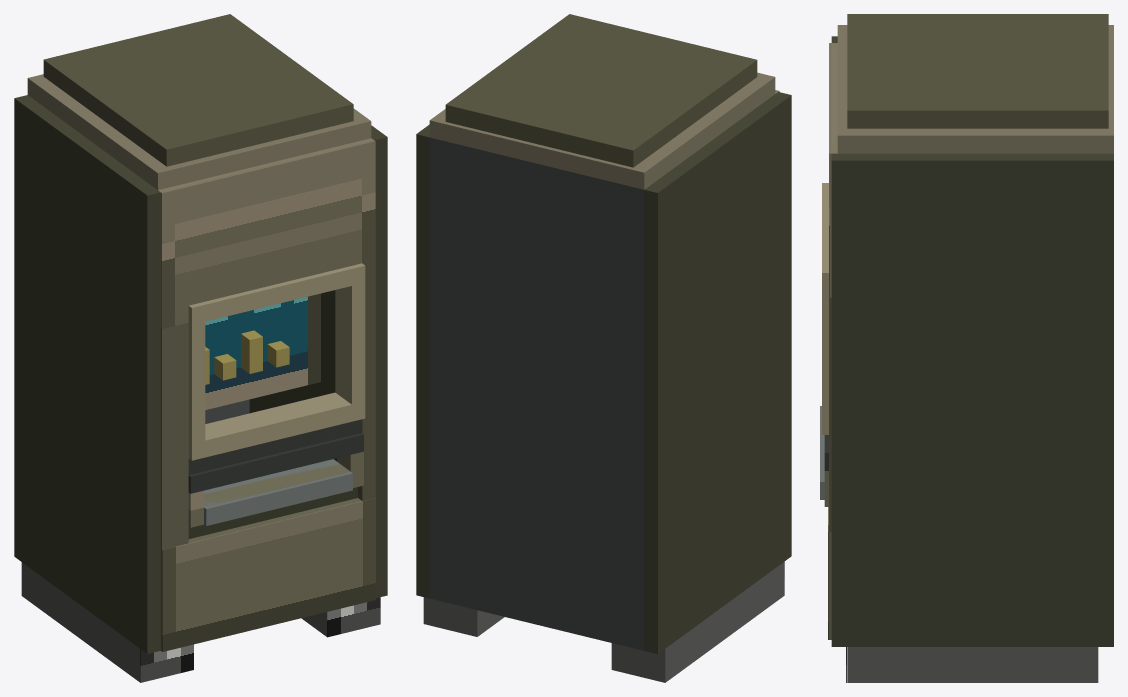
The model's file is CMU3DVendorDinnerwareCloud.glb.
3 renders of one model, left to right at view 1: azimuth 30°, elevation 25°; view 2: azimuth 150°, elevation 25°; view 3: azimuth 270°, elevation 25°, orthographic. The views are drawn at different scales.
Parts seen in each view (by area): view 1: left full-depth cabinet wall, narrow rounded cap, upper ochre fascia original face, lower solid service fascia original face, sloped shoulder band, right full-depth cabinet wall, cyan display recess original face, left ochre display stile, dinnerware window rim bottom, silver foot 6, wide dinnerware pickup floor, dinnerware window rim top (+14 smaller); view 2: solid rear wall, left full-depth cabinet wall, narrow rounded cap, sloped shoulder band, right full-depth cabinet wall, silver foot 6, silver foot 20; view 3: right full-depth cabinet wall, narrow rounded cap, silver foot 20, sloped shoulder band, dinnerware window rim right, roof, dinnerware window rim top, right ochre display stile, upper ochre fascia.
Part boxes in pixels (bbox=[...]): left full-depth cabinet wall: bbox=[14, 95, 160, 653]; narrow rounded cap: bbox=[43, 14, 353, 166]; upper ochre fascia original face: bbox=[161, 141, 375, 328]; lower solid service fascia original face: bbox=[162, 498, 375, 651]; sloped shoulder band: bbox=[27, 74, 371, 189]; right full-depth cabinet wall: bbox=[249, 125, 387, 598]; cyan display recess original face: bbox=[205, 293, 320, 409]; left ochre display stile: bbox=[160, 322, 188, 549]; dinnerware window rim bottom: bbox=[188, 392, 365, 460]; silver foot 6: bbox=[21, 562, 139, 682]; wide dinnerware pickup floor: bbox=[204, 459, 352, 525]; dinnerware window rim top: bbox=[188, 263, 365, 324]; solid rear wall: bbox=[429, 137, 644, 650]; left full-depth cabinet wall: bbox=[644, 92, 791, 654]; narrow rounded cap: bbox=[445, 14, 757, 167]; sloped shoulder band: bbox=[429, 72, 775, 189]; right full-depth cabinet wall: bbox=[416, 124, 429, 598]; silver foot 6: bbox=[611, 562, 784, 682]; silver foot 20: bbox=[423, 597, 504, 636]; right full-depth cabinet wall: bbox=[831, 153, 1113, 646]; narrow rounded cap: bbox=[847, 14, 1108, 128]; silver foot 20: bbox=[847, 647, 1098, 682]; sloped shoulder band: bbox=[837, 25, 1113, 153]; dinnerware window rim right: bbox=[822, 291, 828, 416]; roof: bbox=[831, 43, 837, 153]; dinnerware window rim top: bbox=[822, 183, 828, 290]; right ochre display stile: bbox=[829, 297, 831, 531]; upper ochre fascia: bbox=[830, 43, 837, 297].
Bounding box in the file's own units: 0.5625 × 1.18 × 0.562.
Materials: 26 (5 with a texture image).
